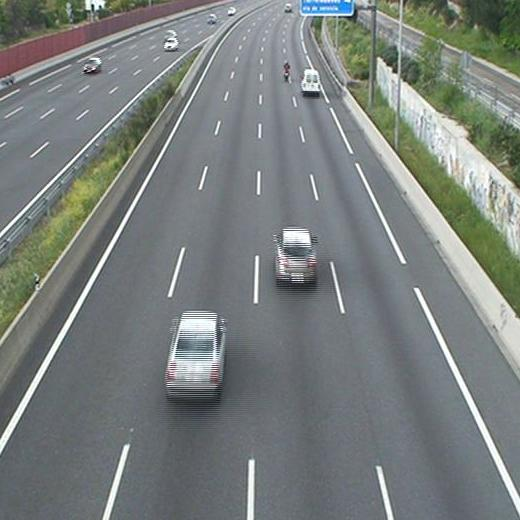car: (164, 310, 227, 402), (272, 224, 317, 287)
motorcycle: (282, 61, 292, 83)
van: (301, 67, 320, 96)
